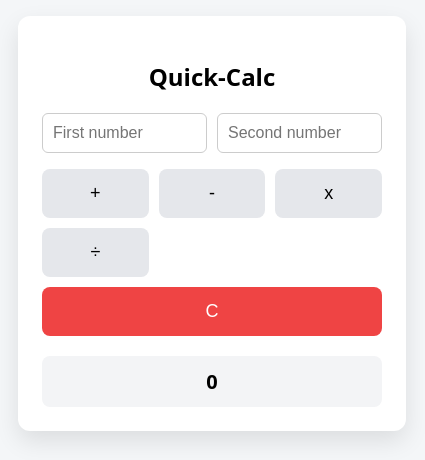
Scenario: Quick-Calc integration tests › performs addition through the UI (5 + 3 = 8)
Simulate user typing and clicking
Type "5" into the number field with placeholder "First number" at (124, 133), box [42,113,207,153]
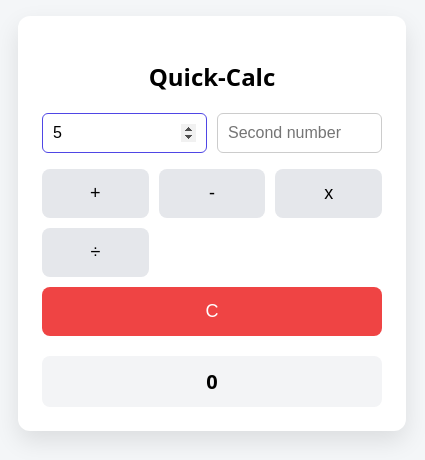
Type "3" into the number field with placeholder "Second number" at (300, 133), box [217,113,382,153]
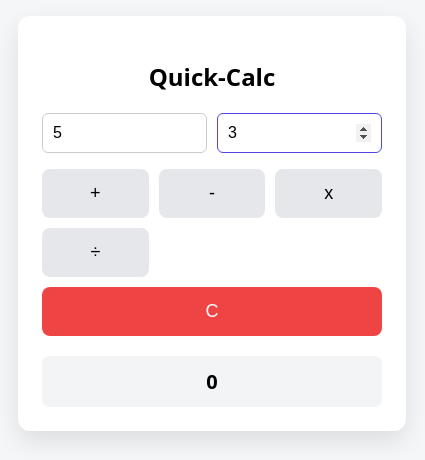
Click the button "+" at (95, 193), box [42,169,149,218]
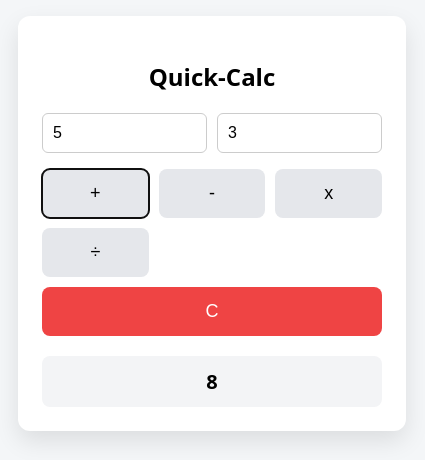
Check: the text with test id "result" reads "8", box [206,368,218,395]
